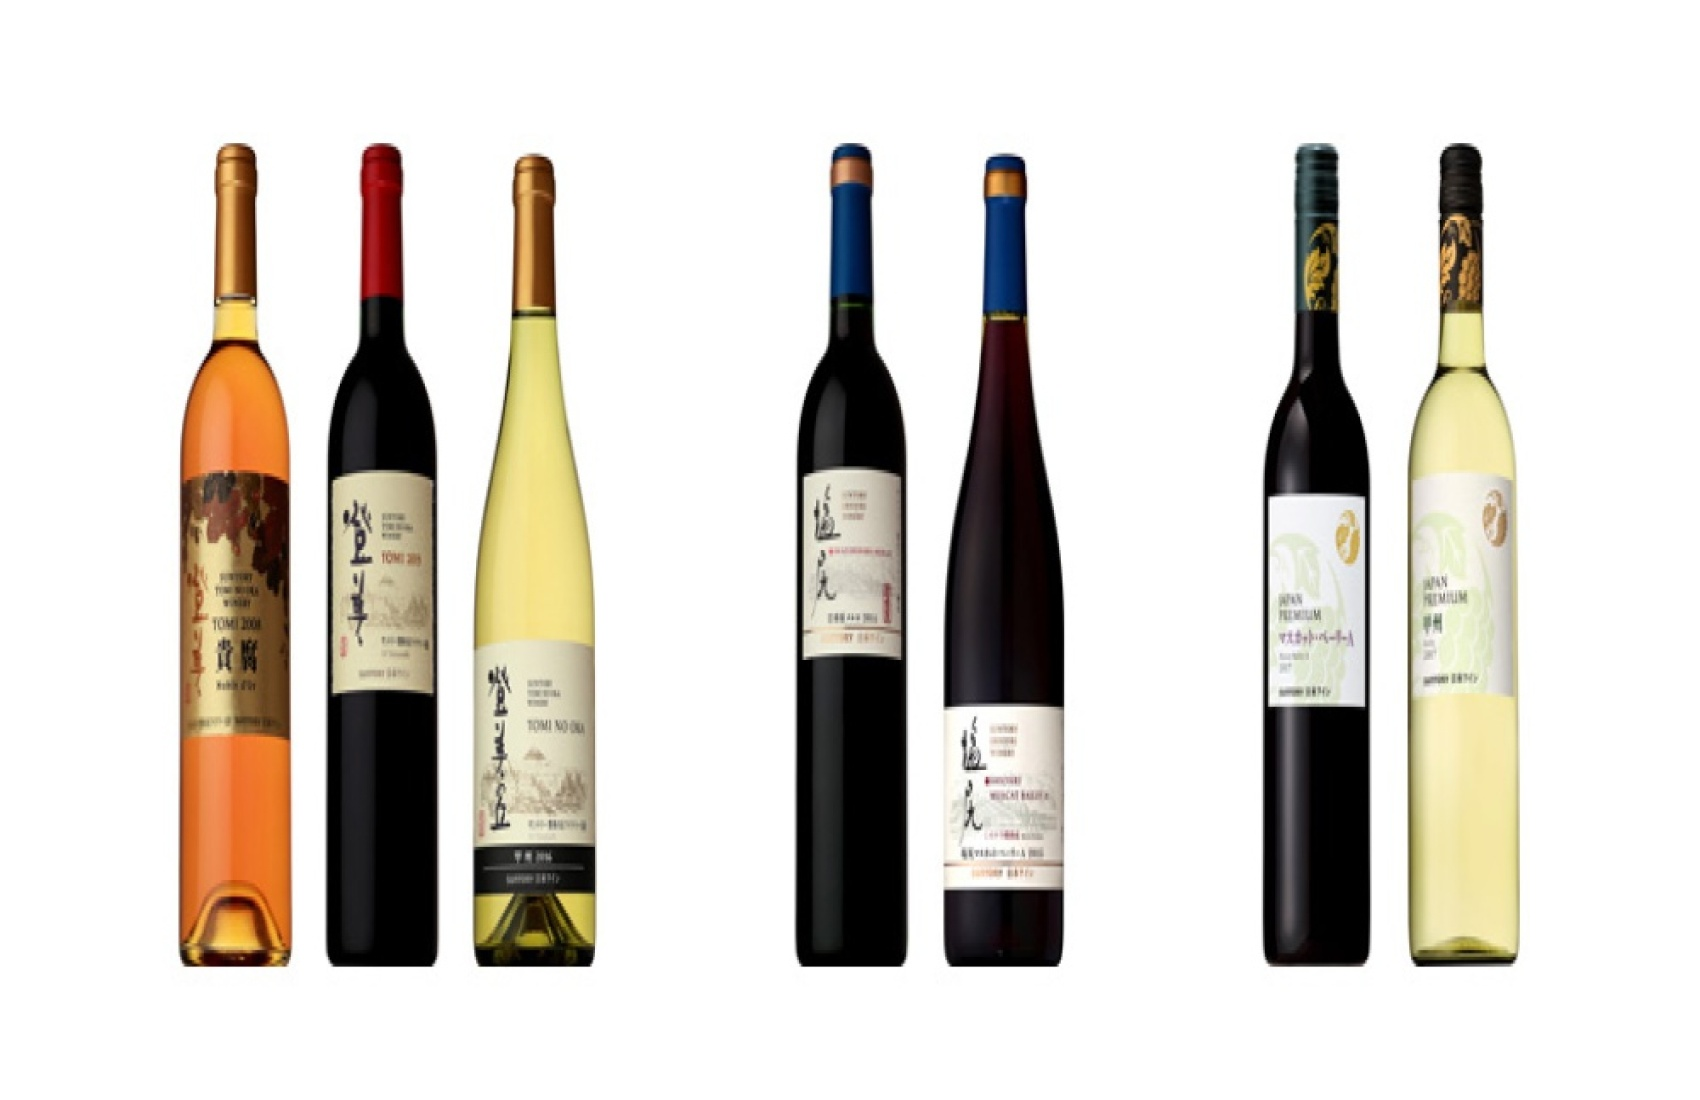wine: (795, 160, 909, 960), (1263, 146, 1377, 946), (320, 145, 432, 945), (475, 160, 587, 960), (942, 168, 1054, 969), (1426, 152, 1539, 953)
